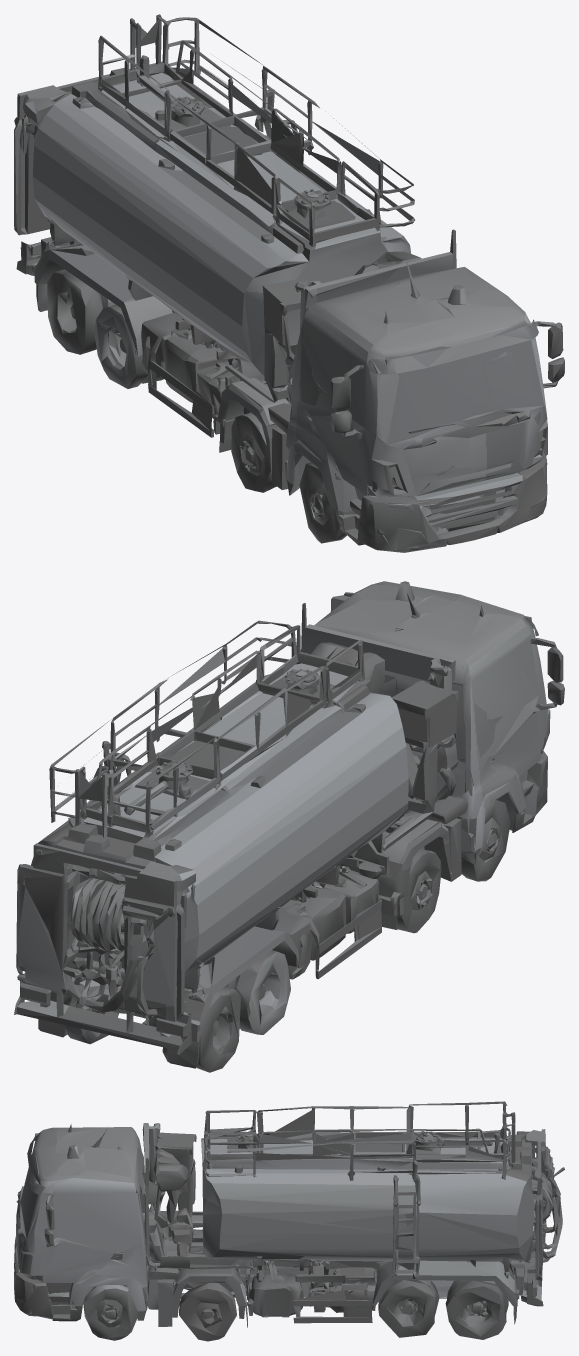
The model's file is stellar_fueler.glb.
3 renders of one model, top to bottom at view 1: azimuth 30°, elevation 25°; view 2: azimuth 150°, elevation 25°; view 3: azimuth 270°, elevation 25°, orthographic. The views are drawn at different scales.
Visible parts, largest first — view 1: LO; view 2: LO; view 3: LO.
Boxes of the visible parts, bbox=[...] form: LO: bbox=[14, 14, 564, 552]; LO: bbox=[14, 581, 564, 1072]; LO: bbox=[14, 1101, 564, 1341].
Bounding box in the file's own units: 3.26 × 3.89 × 9.5.
1 material, 1 textured.
